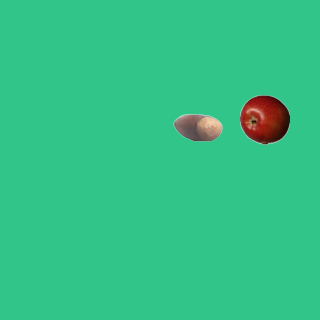Apple Braeburn: (239, 94, 289, 144)
Hazelnut: (172, 102, 222, 152)
